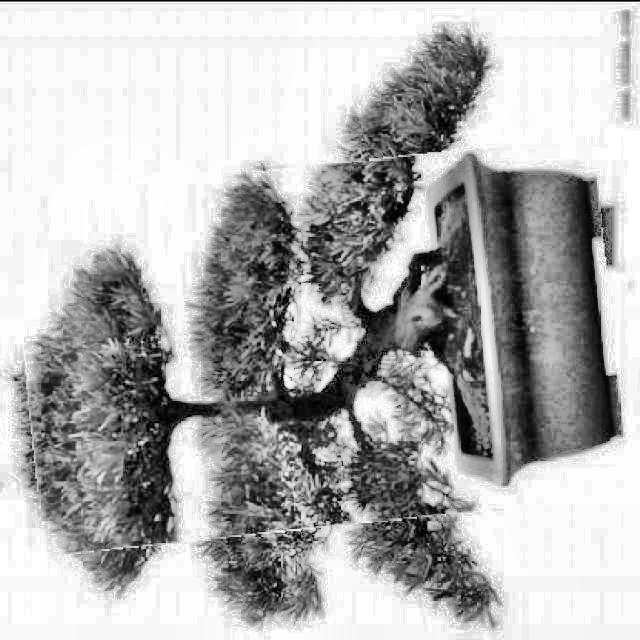plants: (16, 150, 622, 538)
